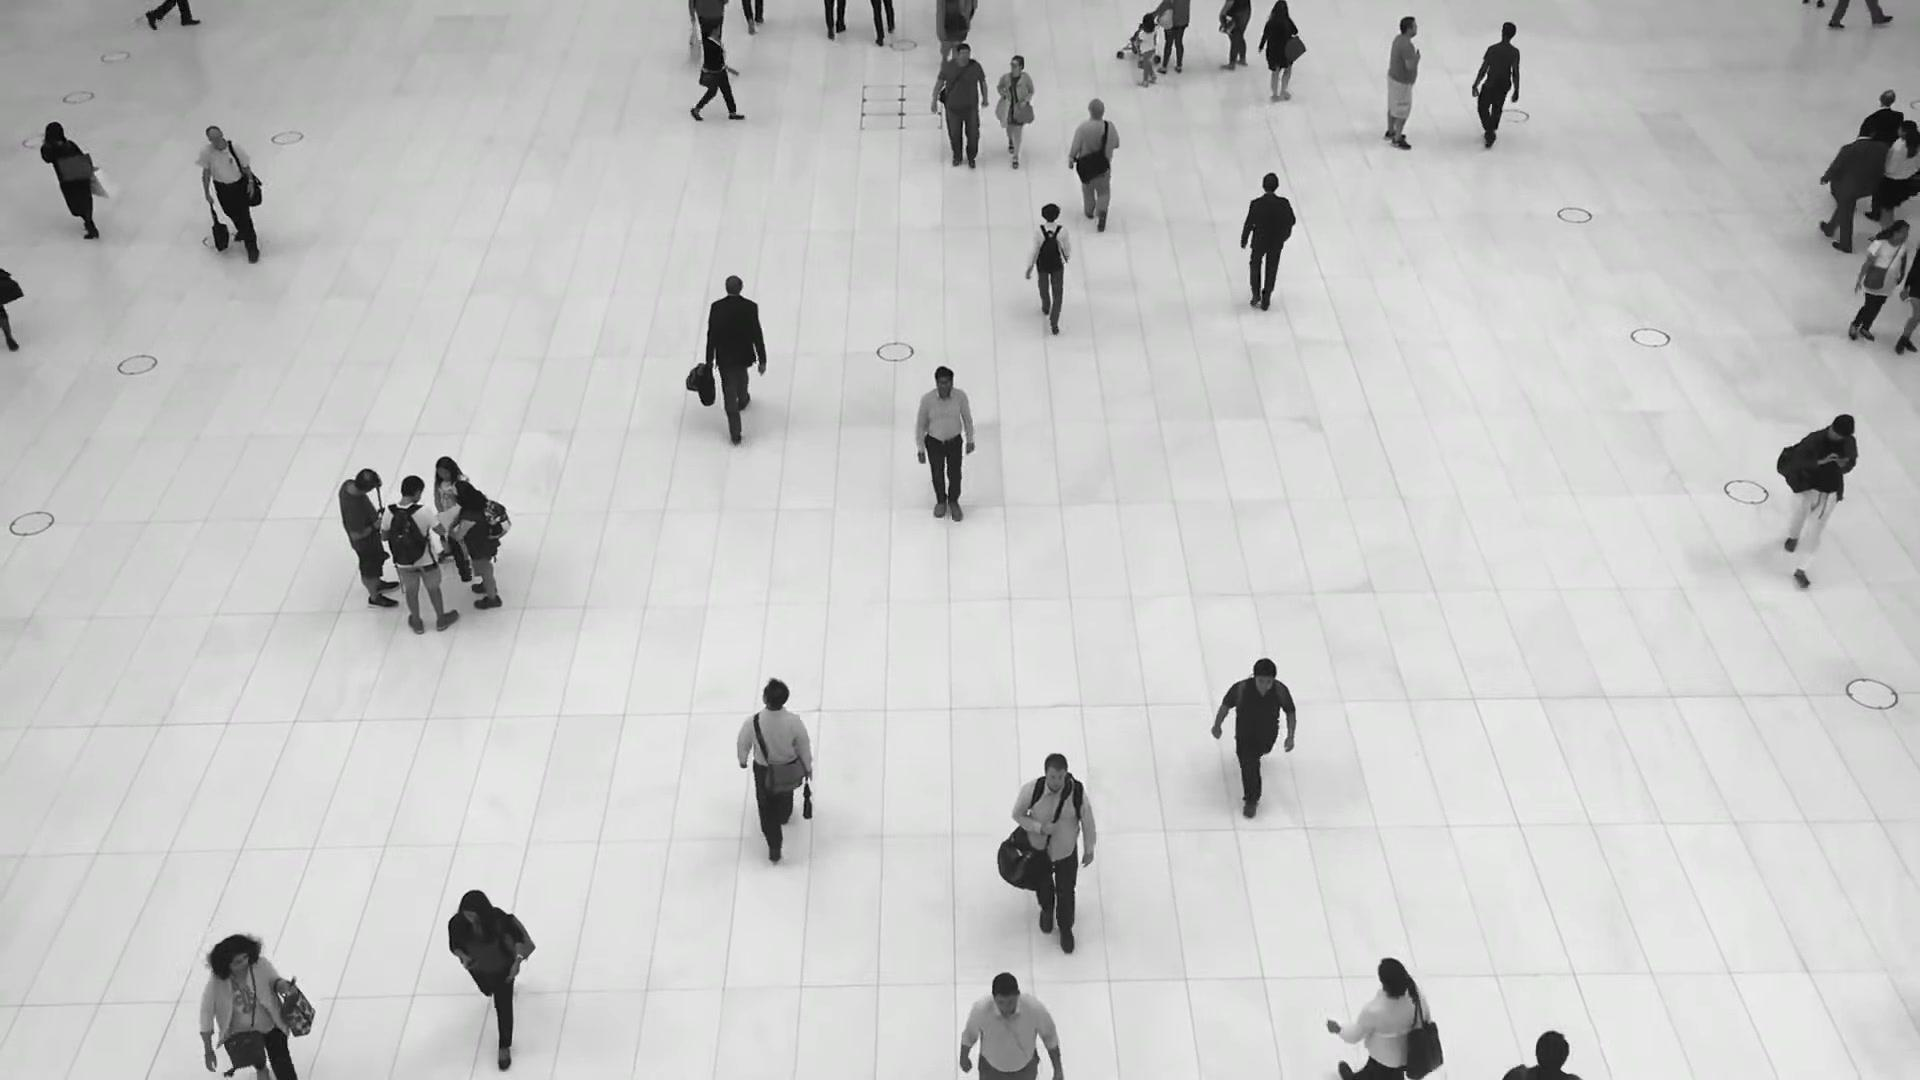person: (1012, 756, 1098, 967), (197, 933, 298, 1080), (735, 678, 813, 855), (446, 887, 524, 1061), (1781, 411, 1860, 581), (378, 477, 459, 637), (1334, 953, 1428, 1080), (1218, 653, 1298, 802), (914, 369, 978, 535), (954, 977, 1058, 1079), (705, 273, 768, 434), (1812, 123, 1886, 253), (335, 466, 400, 610), (195, 123, 261, 262), (1841, 220, 1907, 352), (1239, 177, 1296, 324), (1067, 98, 1123, 233), (932, 44, 990, 176), (39, 121, 100, 241), (449, 482, 501, 612), (1470, 22, 1521, 154), (1027, 201, 1072, 331), (1383, 16, 1421, 150), (1872, 120, 1917, 234), (427, 458, 467, 580), (994, 54, 1035, 166), (1255, 5, 1299, 108), (701, 19, 741, 122), (1135, 13, 1157, 89)
